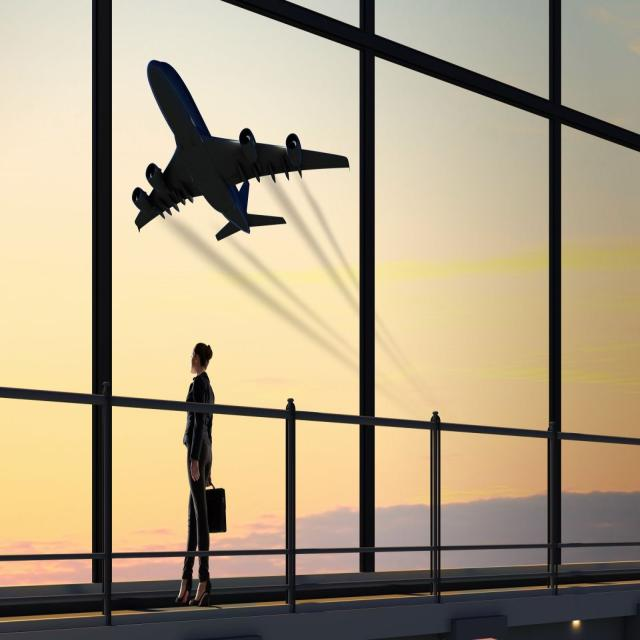plain: (119, 48, 361, 252)
